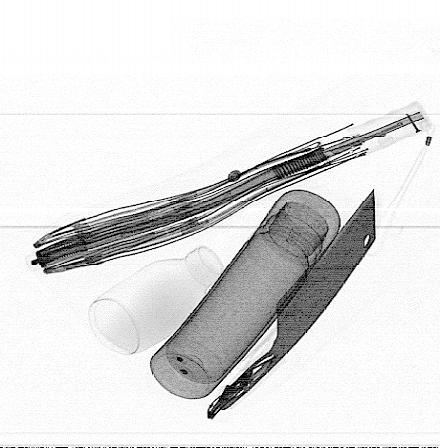Knife: (218, 186, 377, 411), (206, 345, 280, 420)
